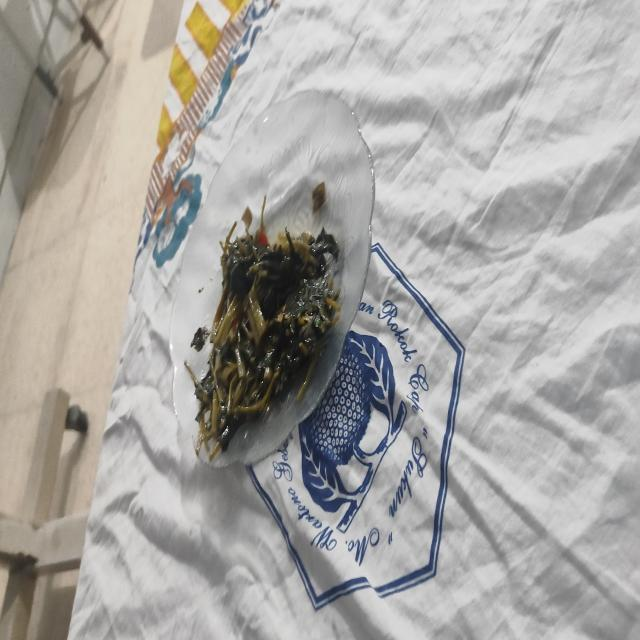tumis_kangkung: (185, 208, 340, 461)
